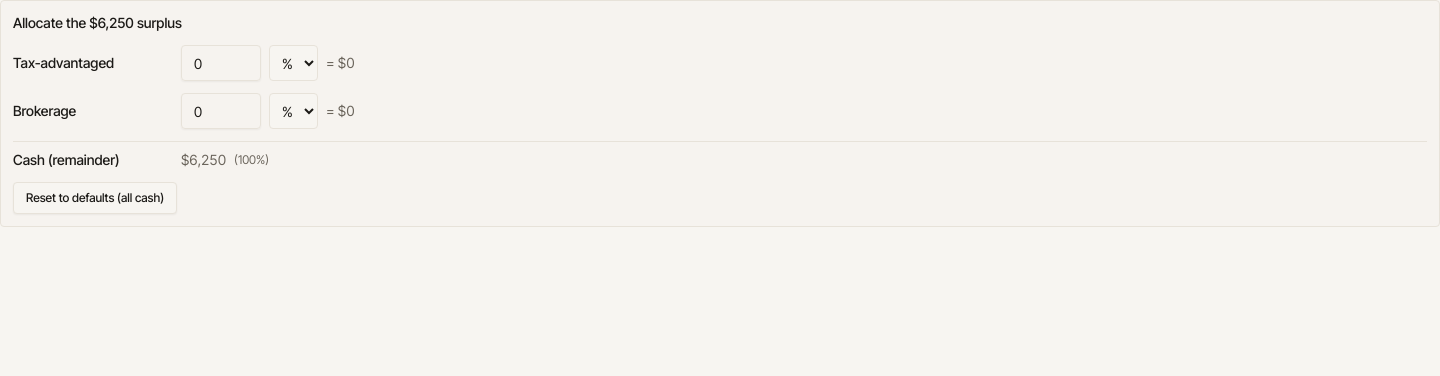
Test: GapAllocationEditor › cash row updates live as the user changes bucket percentages
Expected: the text with test id "gap-alloc-cash-remainder" reads "$6,250", [181, 151, 226, 168]
Replace the text in the number field named "Tax-advantaged percent amount" with "60": (221, 63) [181, 45, 261, 81]
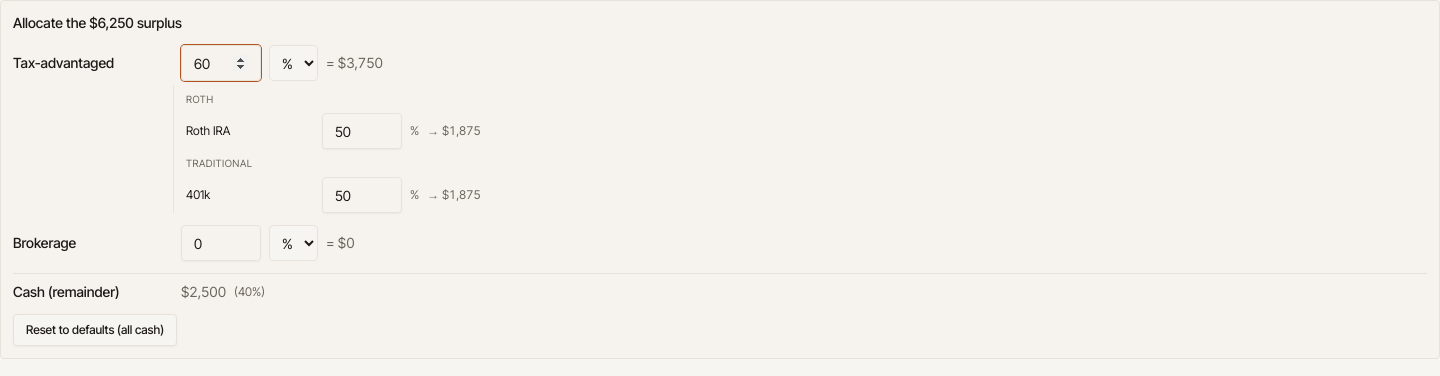
Result: the text with test id "gap-alloc-cash-remainder" reads "$2,500" at [181, 283, 226, 300]
